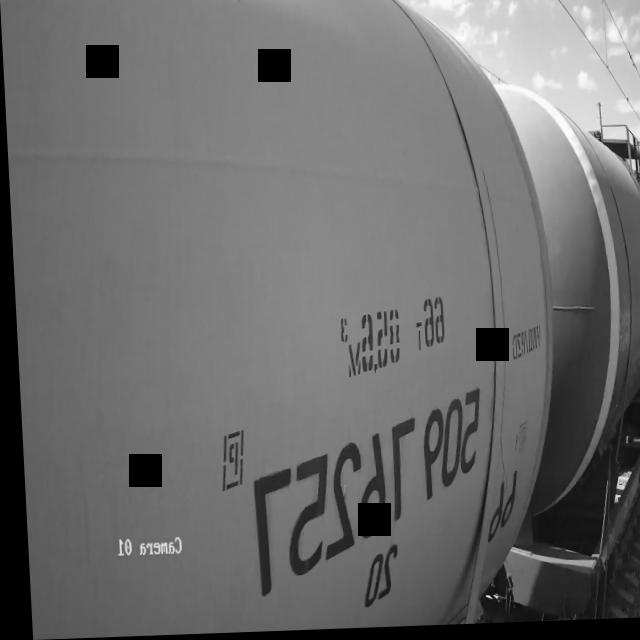tank: (0, 0, 574, 640), (495, 67, 640, 626)
